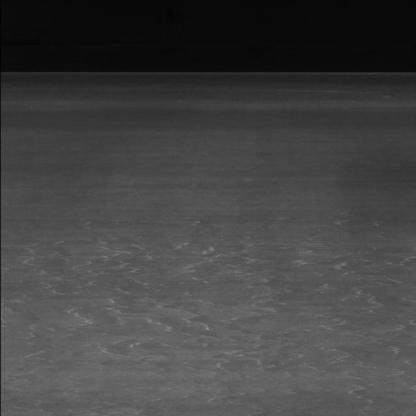silk_spot: (250, 243, 382, 383), (157, 186, 259, 292), (20, 224, 139, 300), (131, 297, 243, 367), (31, 307, 114, 370)
